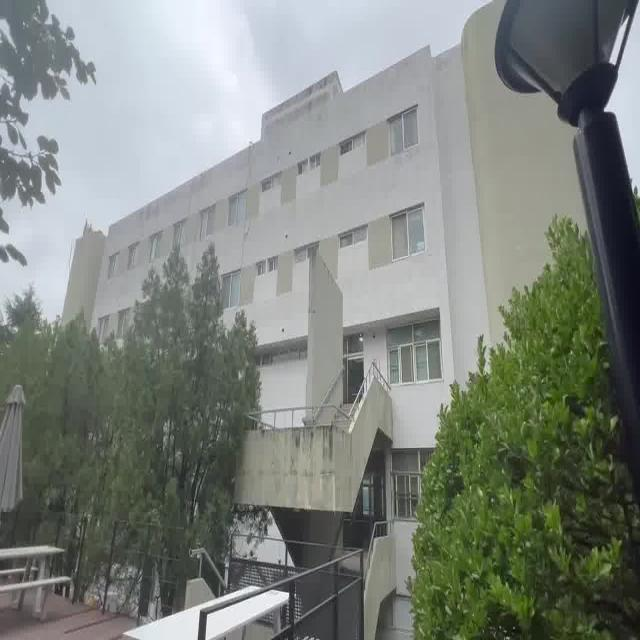building: (248, 91, 438, 501)
